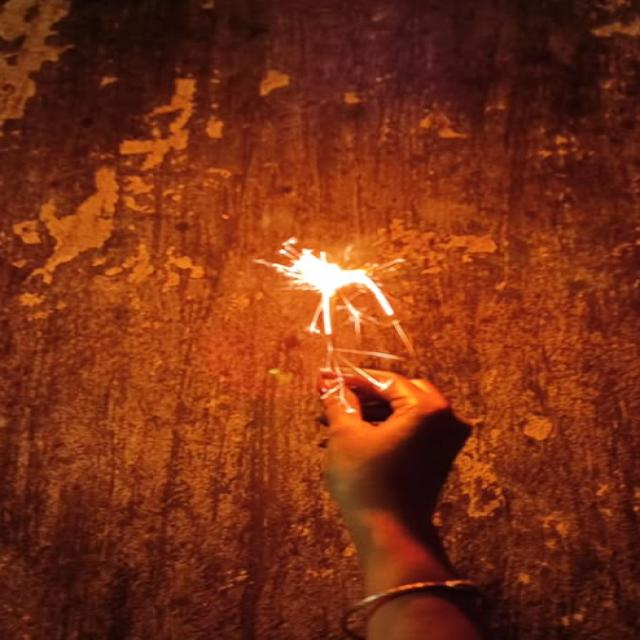fire: (252, 237, 393, 333)
